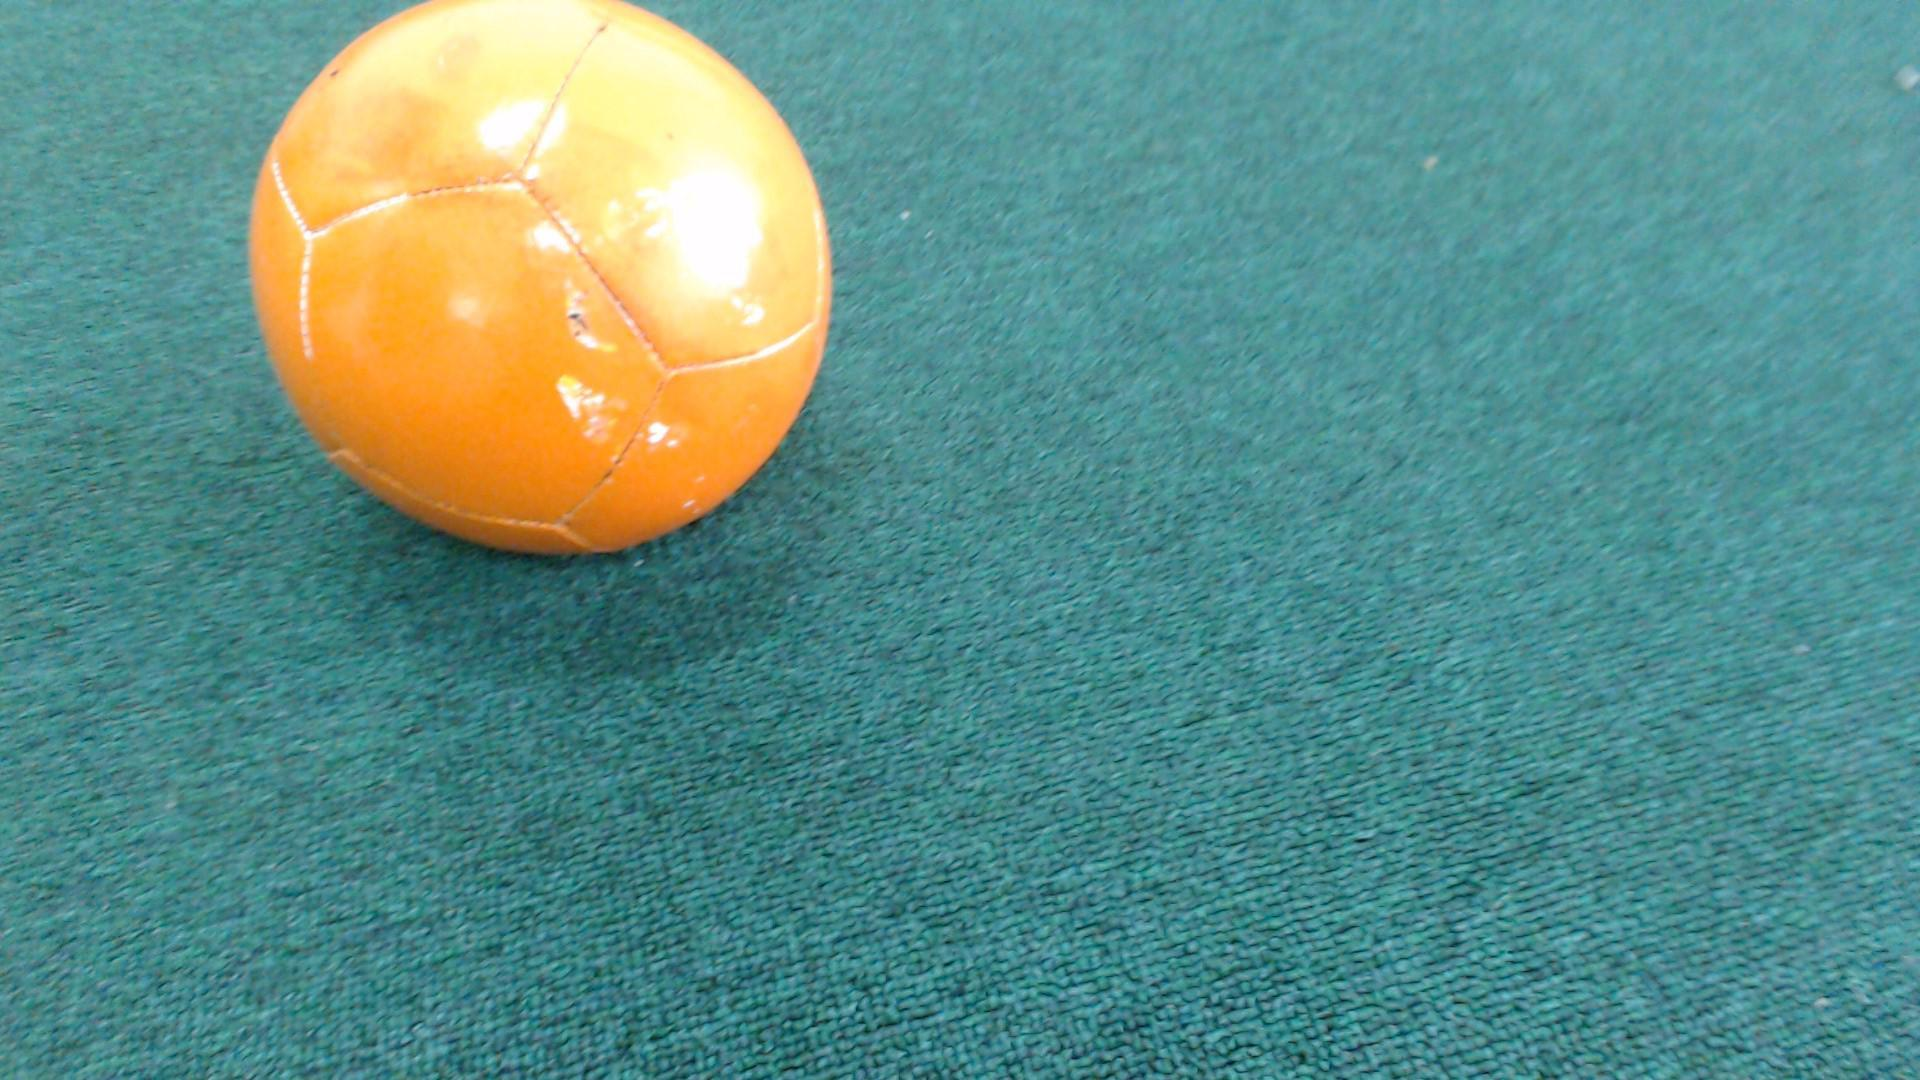bola: (212, 0, 849, 603)
